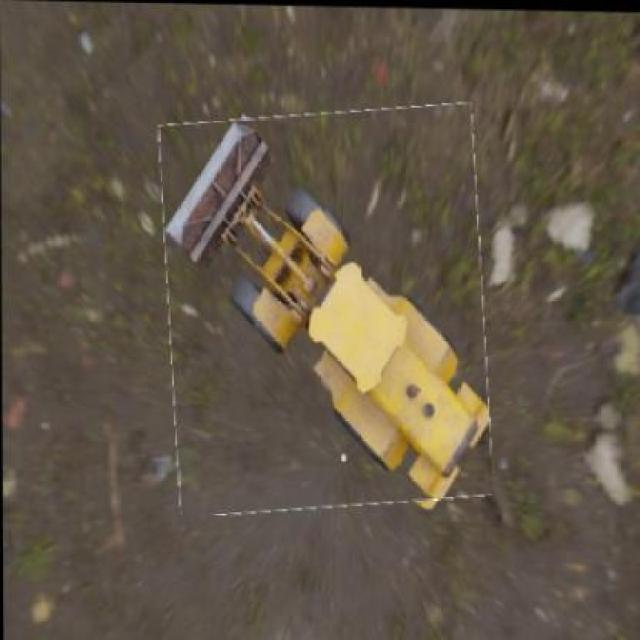buldozerpayloadergrader: (164, 119, 490, 496)
